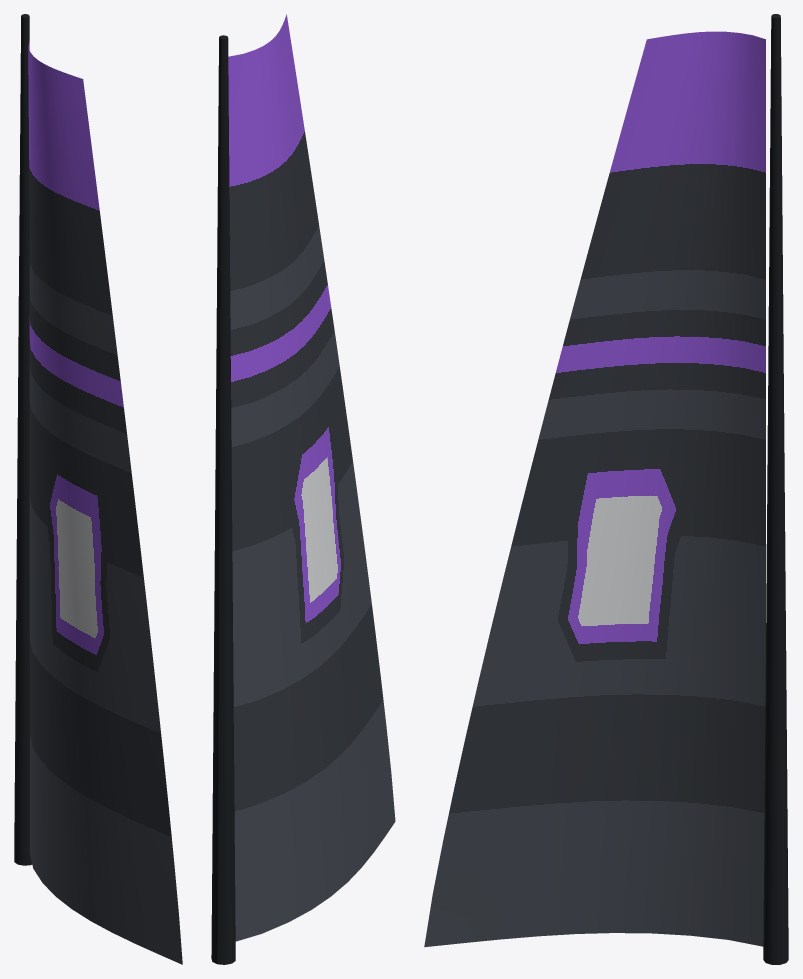
File: rig_4_p.glb
The picture shows the model from 3 angles, left to right: view 1: azimuth 30°, elevation 25°; view 2: azimuth 150°, elevation 25°; view 3: azimuth 270°, elevation 25°; orthographic projection. The views are drawn at different scales.
Parts seen in each view (by area): view 1: rig_4_p_body; view 2: rig_4_p_body; view 3: rig_4_p_body.
Boxes of the visible parts, x1,y1,x2,y2 form: rig_4_p_body: (14,14,182,964); rig_4_p_body: (211,14,395,964); rig_4_p_body: (424,14,788,964).
Bounding box in the file's own units: 1.15 × 26.2 × 9.17.
1 material, 1 textured.
